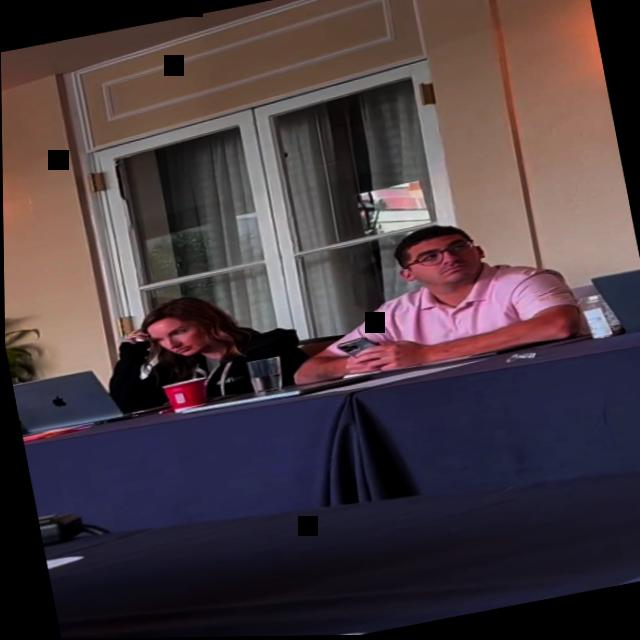NO-Mask: (401, 229, 485, 294), (142, 312, 204, 364)
